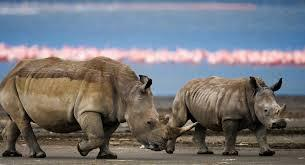Non_Gorille: (3, 41, 300, 158)
